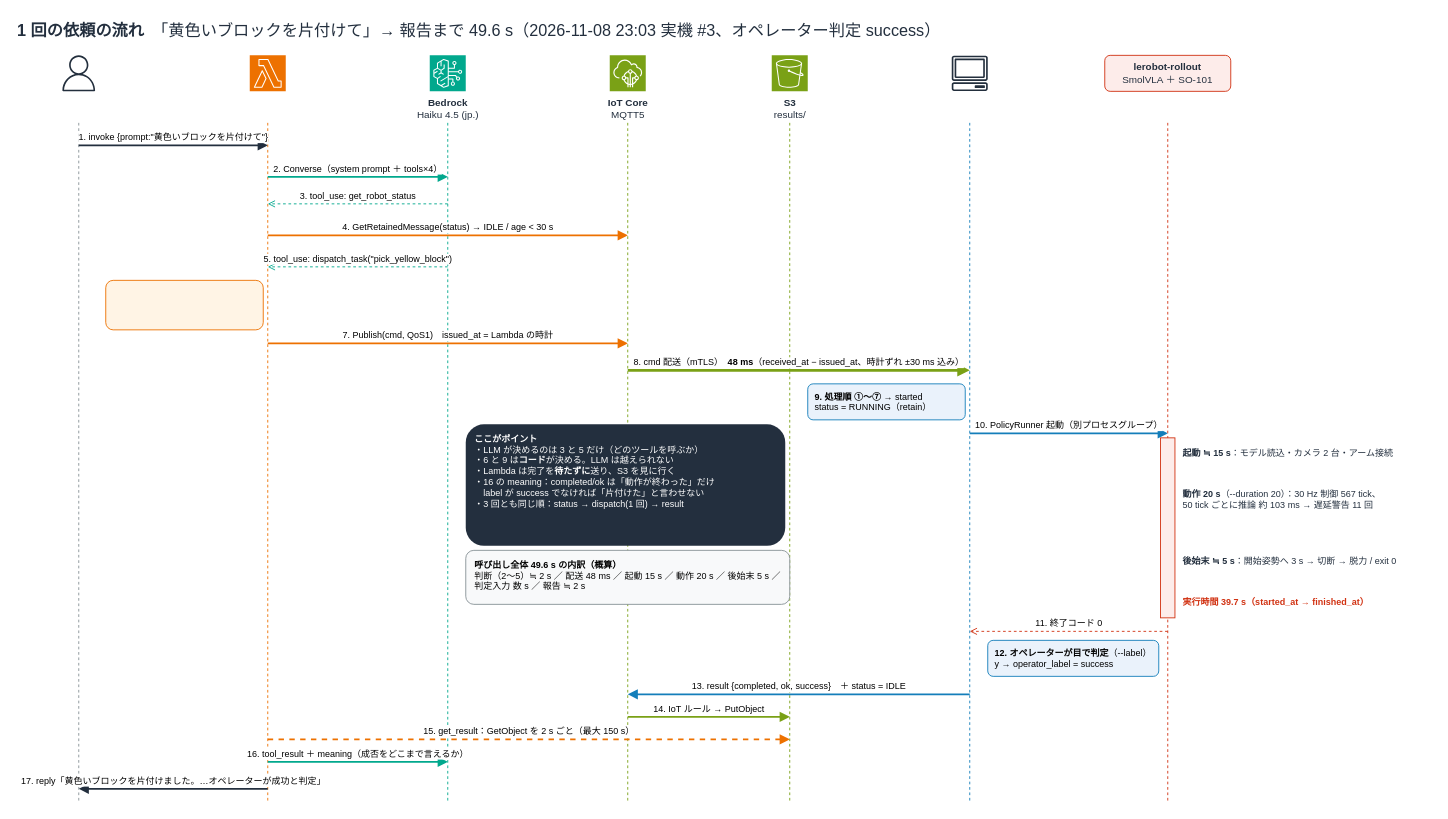
This 1448x819 diagram has some shape labels left out. Here are the shapes that lost their labels. From the top down, the centre of each, then its label:
[78,73]: あなた ask.sh
[267,72]: Lambda 判断役 Strands
[969,73]: edge_agent Ubuntu PC
[184,304]: 6. コードのガード 許可リスト？ IDLE かつ 30 s 以内？ この呼び出しで 1 件目？→ すべて OK
